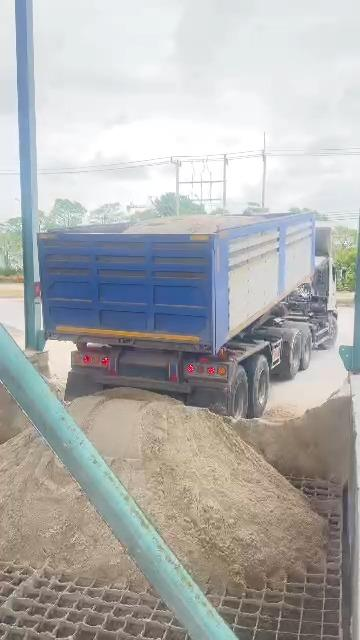sand: (72, 390, 324, 591), (0, 429, 142, 583), (229, 383, 351, 483), (124, 215, 258, 234), (0, 382, 30, 444), (0, 383, 29, 444), (263, 405, 302, 422), (42, 376, 64, 399)
